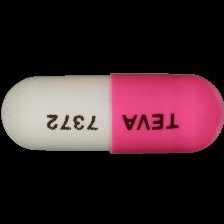43063-402: (0, 0, 224, 224)
